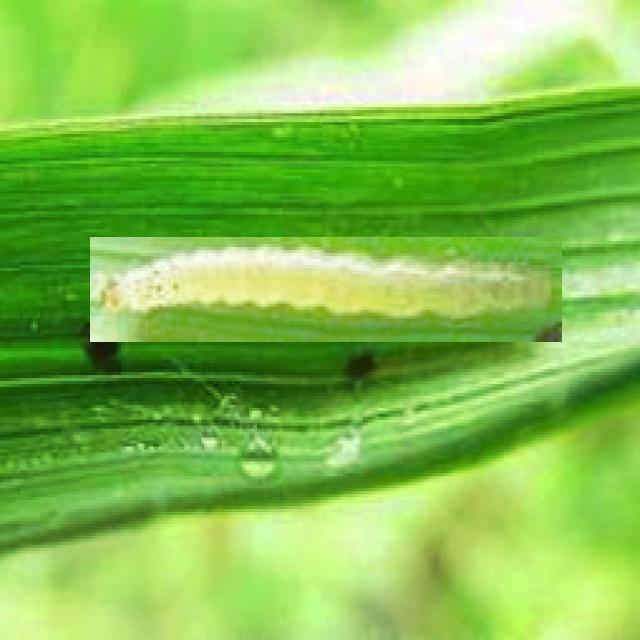leaf-folder: (90, 237, 562, 342)
